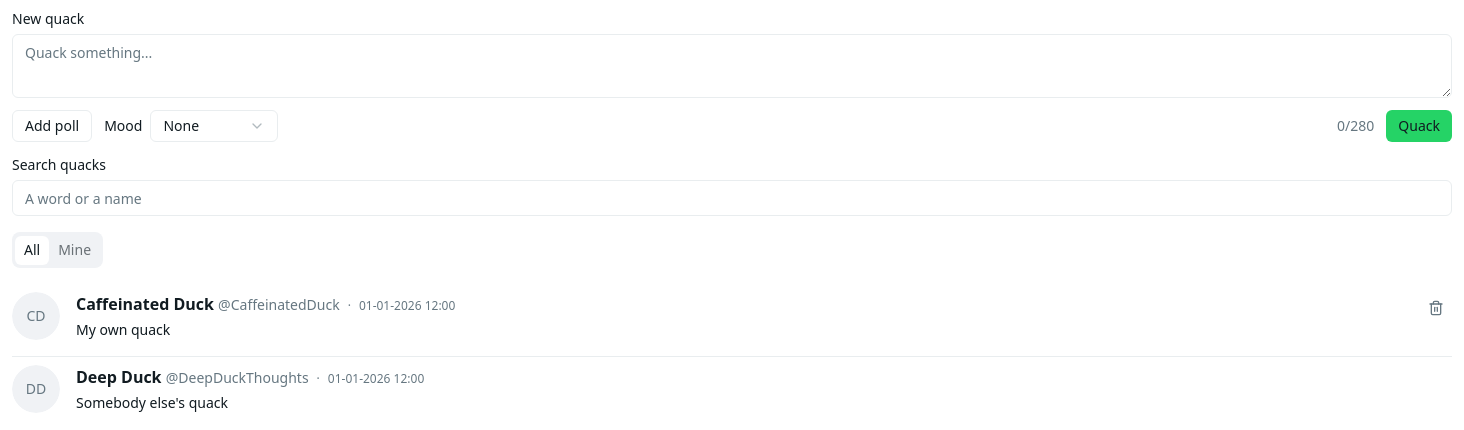
Test: QuackFeed delete and Mine › the tabs › Mine asks the server for mine, without naming a user, and shows only mine
Expected: the text "Somebody else's quack" is shown, top-left (76, 393), bottom-right (228, 412)
Step 1. Click the tab "Mine" → (75, 250), box top-left (49, 236), bottom-right (100, 264)
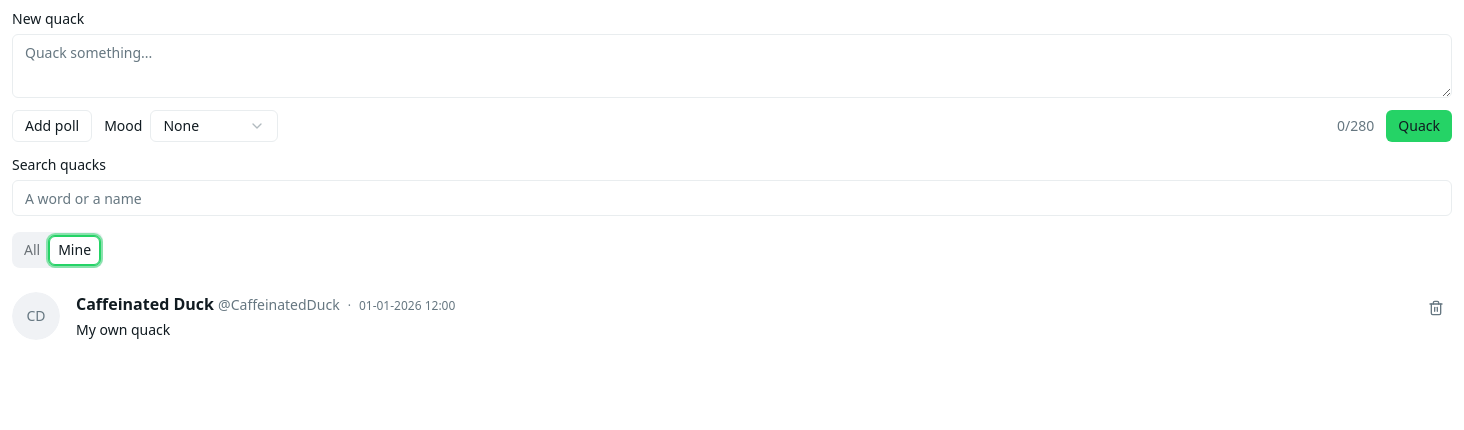
Expected: the text "My own quack" is shown, top-left (76, 320), bottom-right (170, 339)
Expected: the text "Somebody else's quack" is gone
